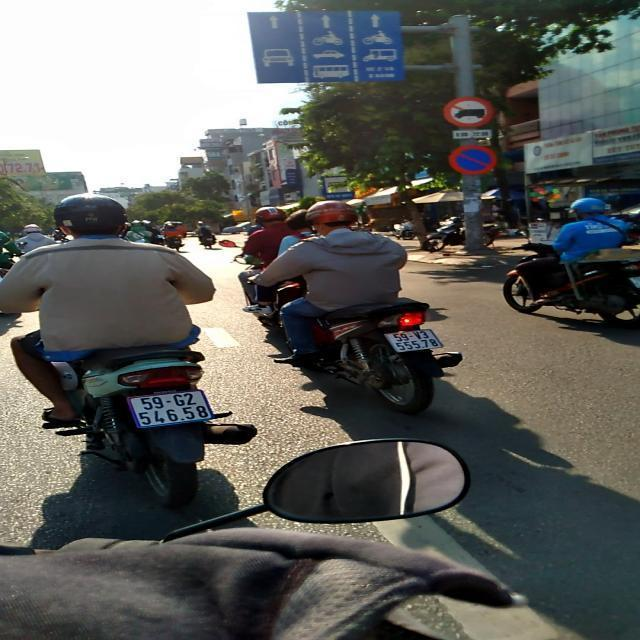131a-cam-do-xe: (449, 145, 496, 174)
